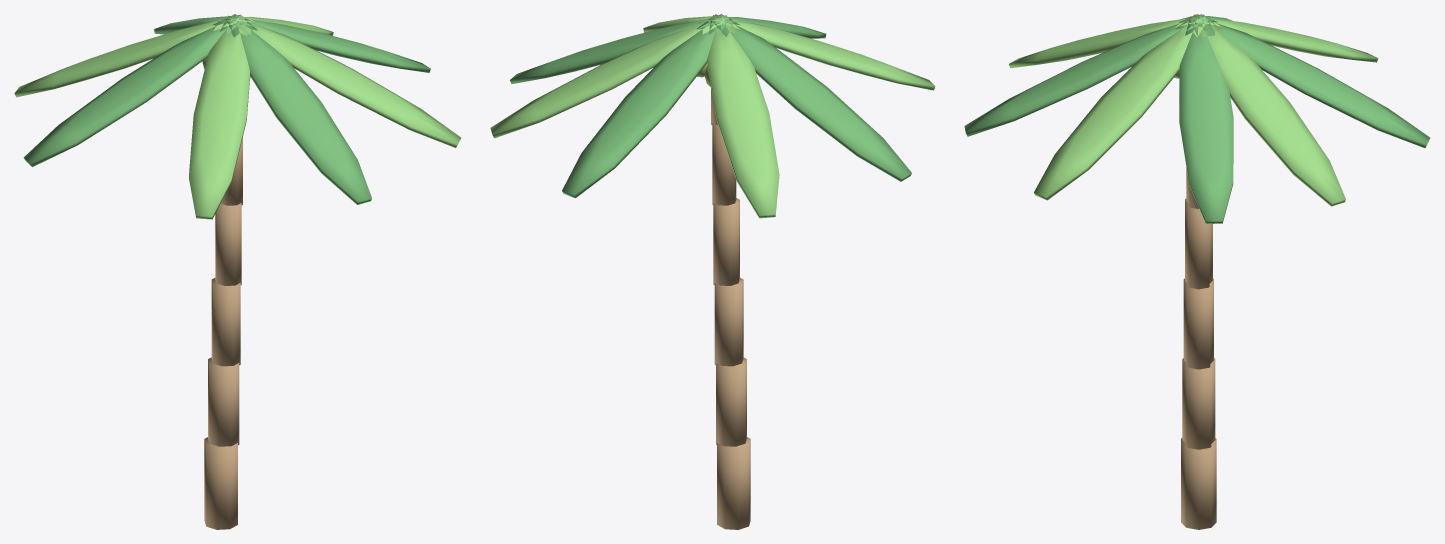
File: Prop_Palm2.fbx
3 views of the same model, side by side, from view 1: azimuth 30°, elevation 25°; view 2: azimuth 150°, elevation 25°; view 3: azimuth 270°, elevation 25° (orthographic). The views are drawn at different scales.
Parts seen in each view (by area): view 1: Prop_Palm2; view 2: Prop_Palm2; view 3: Prop_Palm2.
Part boxes in pixels (x1,y1,x2,y2): Prop_Palm2: [14, 14, 461, 529]; Prop_Palm2: [490, 14, 935, 529]; Prop_Palm2: [964, 14, 1430, 529].
Bounding box in the file's own units: 7.38 × 8.89 × 7.33.
